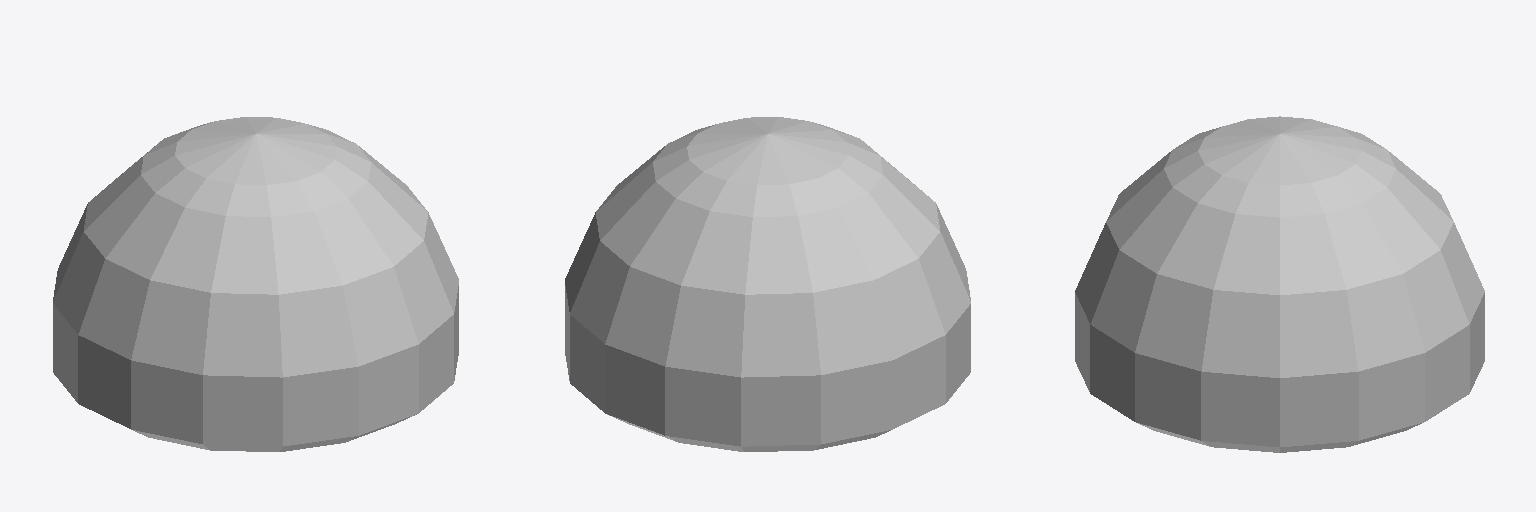
The model's file is bb8_collider_head.obj.
3 renders of one model, left to right at view 1: azimuth 30°, elevation 25°; view 2: azimuth 150°, elevation 25°; view 3: azimuth 270°, elevation 25°, orthographic.
Parts seen in each view (by area): view 1: sphere3; view 2: sphere3; view 3: sphere3.
Boxes of the visible parts, <box> form: sphere3: <box>53,117,458,451</box>; sphere3: <box>565,117,970,451</box>; sphere3: <box>1075,116,1484,452</box>.
Bounding box in the file's own units: 56.62 × 37.21 × 56.62.